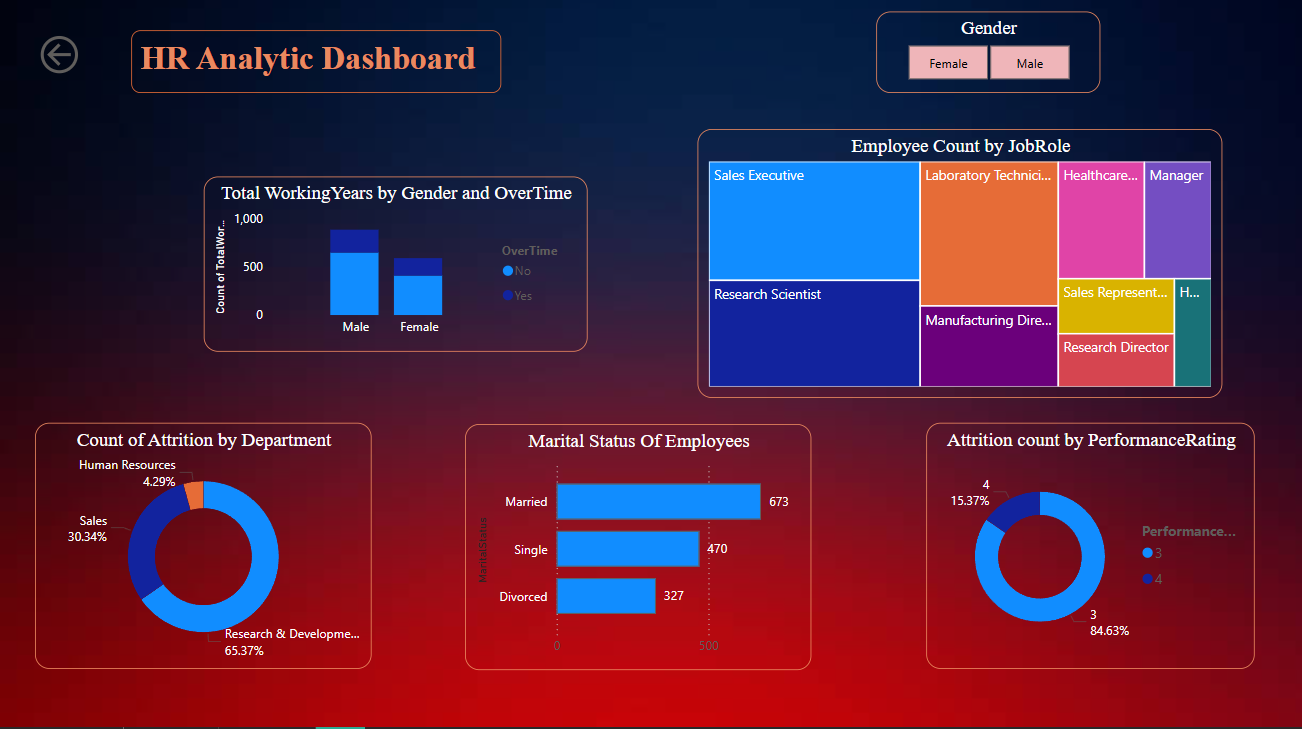

Layout of this report page (visuals, bound fields, positions):
{"tool":"powerbi","page":{"name":"Page 2","canvas":[1280,720],"ordinal":1},"visuals":[{"type":"pieChart","fields":{"Category":["HR_Analytics.Department"],"Y":["CountNonNull(HR_Analytics.Attrition)"]},"box":[34.4,420.9,330.1,241.7],"z":0},{"type":"barChart","title":"Marital Status Of  Employees","fields":{"Y":["CountNonNull(HR_Analytics.Attrition count)"],"Category":["HR_Analytics.MaritalStatus"]},"box":[456.4,422.1,339.9,241.7],"z":1000},{"type":"textbox","box":[128.8,35.6,363.2,61.4],"z":2000},{"type":"columnChart","title":"Total WorkingYears by Gender and OverTime","fields":{"Category":["HR_Analytics.Gender"],"Y":["CountNonNull(HR_Analytics.TotalWorkingYears)"],"Series":["HR_Analytics.OverTime"]},"box":[200,179.1,376.7,171.8],"z":3000},{"type":"actionButton","box":[34.4,35.6,94.5,47.9],"z":4000},{"type":"treemap","title":"Employee Count by JobRole","fields":{"Group":["HR_Analytics.JobRole"],"Values":["Sum(HR_Analytics.EmployeeCount)"]},"box":[684.7,132.5,515.3,263.8],"z":4001},{"type":"pieChart","title":"Attrition count by PerformanceRating","fields":{"Category":["HR_Analytics.PerformanceRating"],"Y":["CountNonNull(HR_Analytics.Attrition count)"]},"box":[909.2,420.9,322.7,241.7],"z":4002},{"type":"slicer","title":"Gender","fields":{"Values":["HR_Analytics.Gender"]},"box":[860.1,17.2,219.6,79.8],"z":4003}]}

Visuals, with their boxes in screenshot pixels (x1, y1, x2, y2), scaled from the page's 1280x720 canvas onto the 1302x729 screenshot:
pieChart - HR_Analytics.Department x CountNonNull(HR_Analytics.Attrition): bbox(35, 426, 371, 671)
"Marital Status Of  Employees" barChart: bbox(464, 427, 810, 672)
textbox: bbox(131, 36, 500, 98)
"Total WorkingYears by Gender and OverTime" columnChart: bbox(203, 181, 587, 355)
actionButton: bbox(35, 36, 131, 85)
"Employee Count by JobRole" treemap: bbox(696, 134, 1221, 401)
"Attrition count by PerformanceRating" pieChart: bbox(925, 426, 1253, 671)
"Gender" slicer: bbox(875, 17, 1098, 98)
